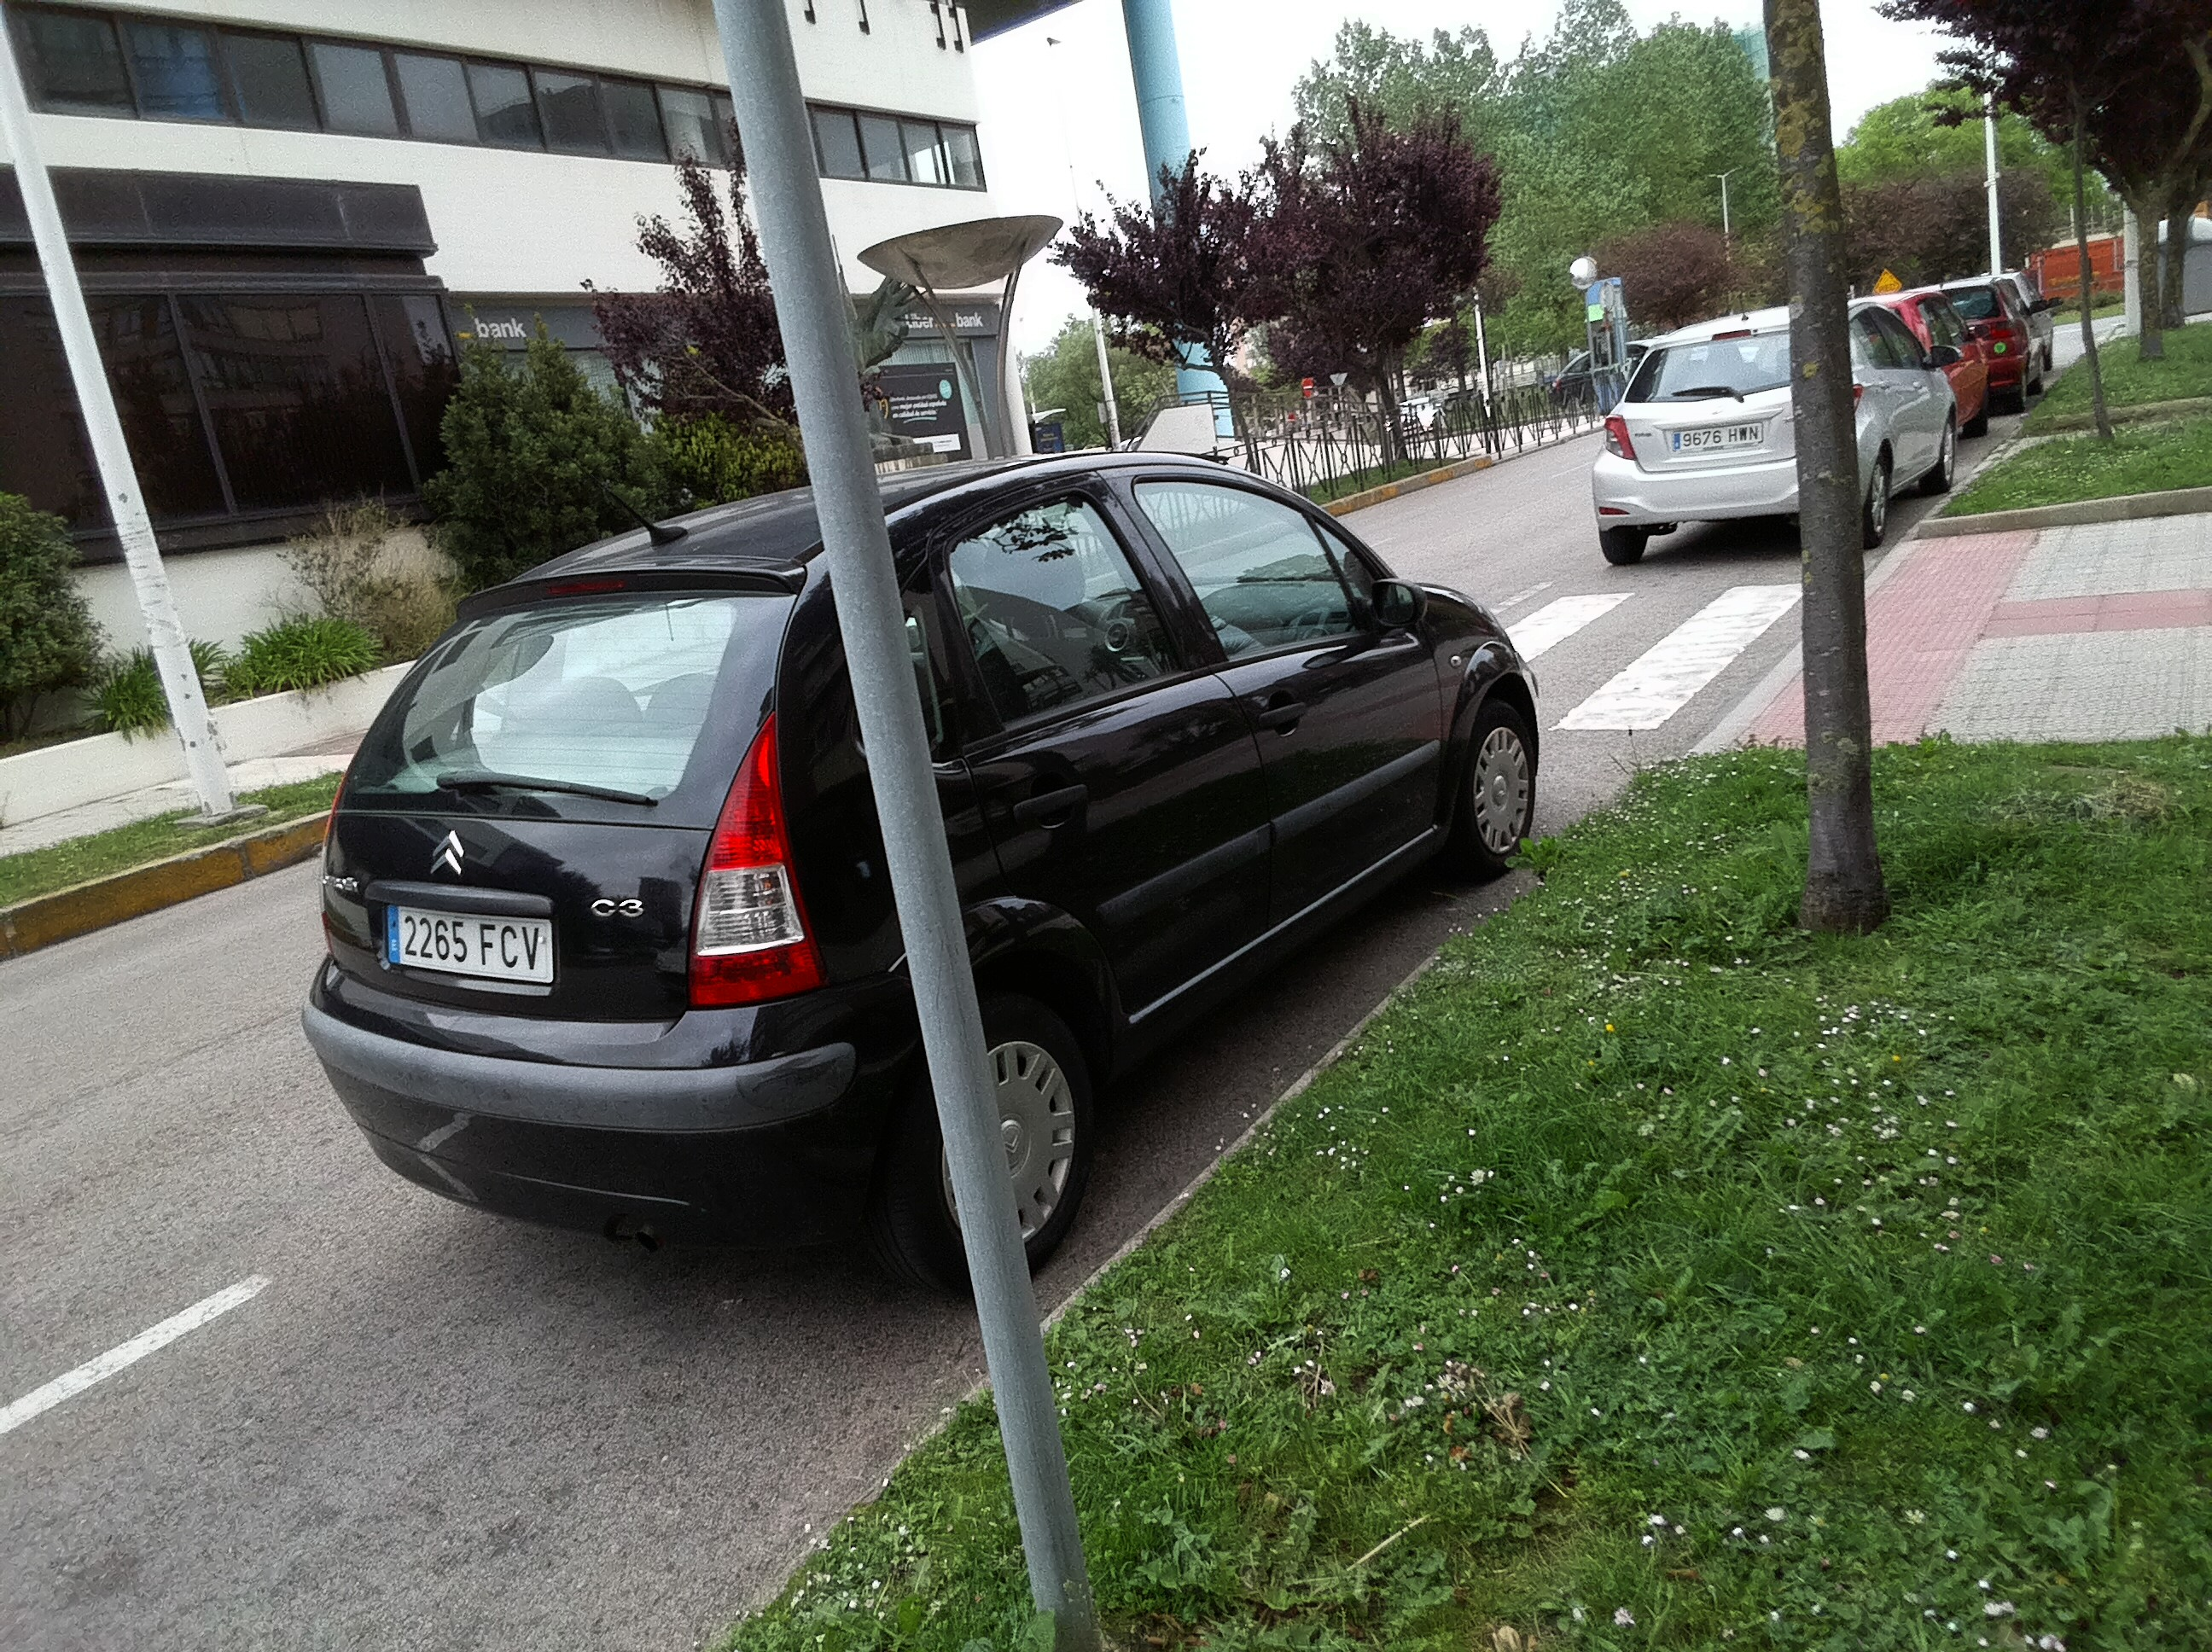Arbol: (1702, 0, 1948, 954)
Poste: (696, 0, 1155, 1643)
Vehiculo: (302, 449, 1577, 1315)
